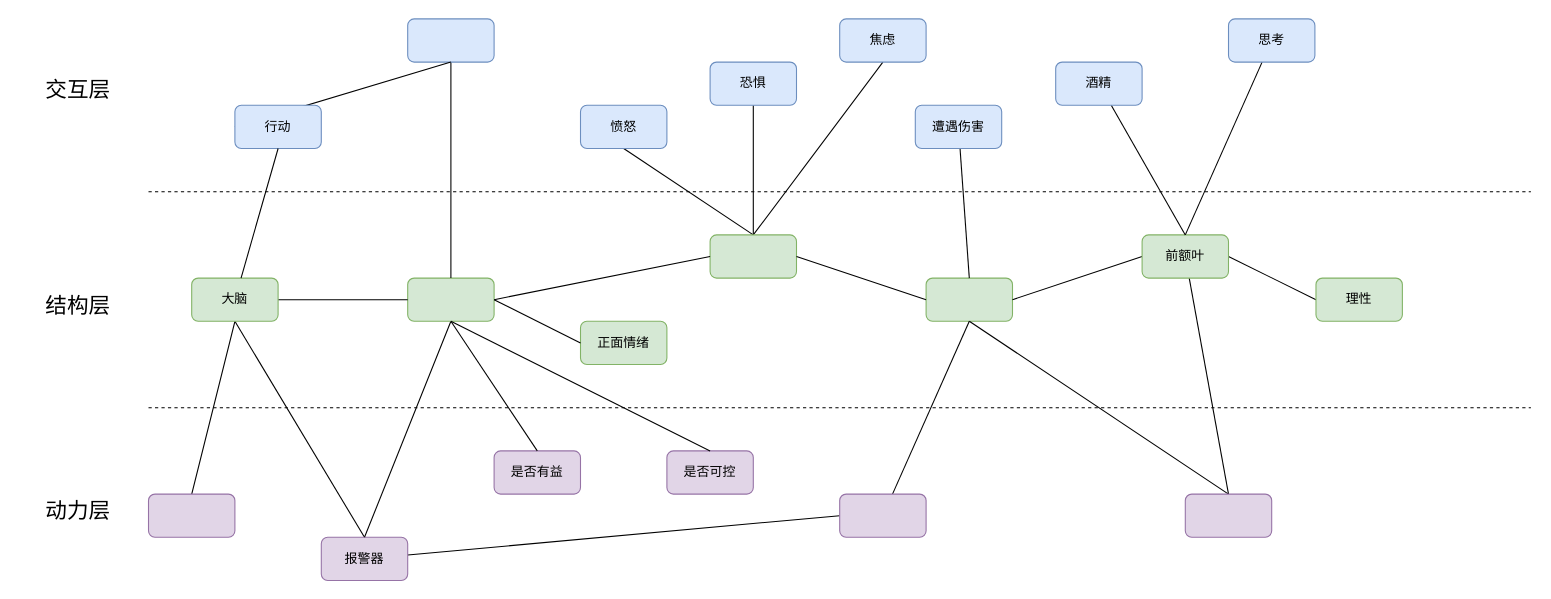
This 1551x599 diagram has some shape labels left out. Here are the shapes that lost their labels. From the top down, the centre of each, then its label:
At (450,40): "环境变化".
At (752,256): "负面情绪".
At (450,299): "情绪".
At (969,299): "杏仁核".
At (191,515): "稳定".
At (882,515): "威胁识别".
At (1228,515): "抑制".
